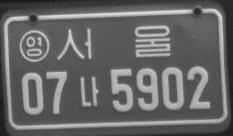0: (160, 66, 184, 111), (20, 71, 44, 115)
2: (186, 65, 211, 110)
5: (109, 67, 134, 113)
7: (45, 70, 67, 115)
9: (135, 66, 159, 112)
나: (79, 75, 99, 107)
서울_D: (56, 23, 171, 60)
영: (18, 29, 50, 62)
